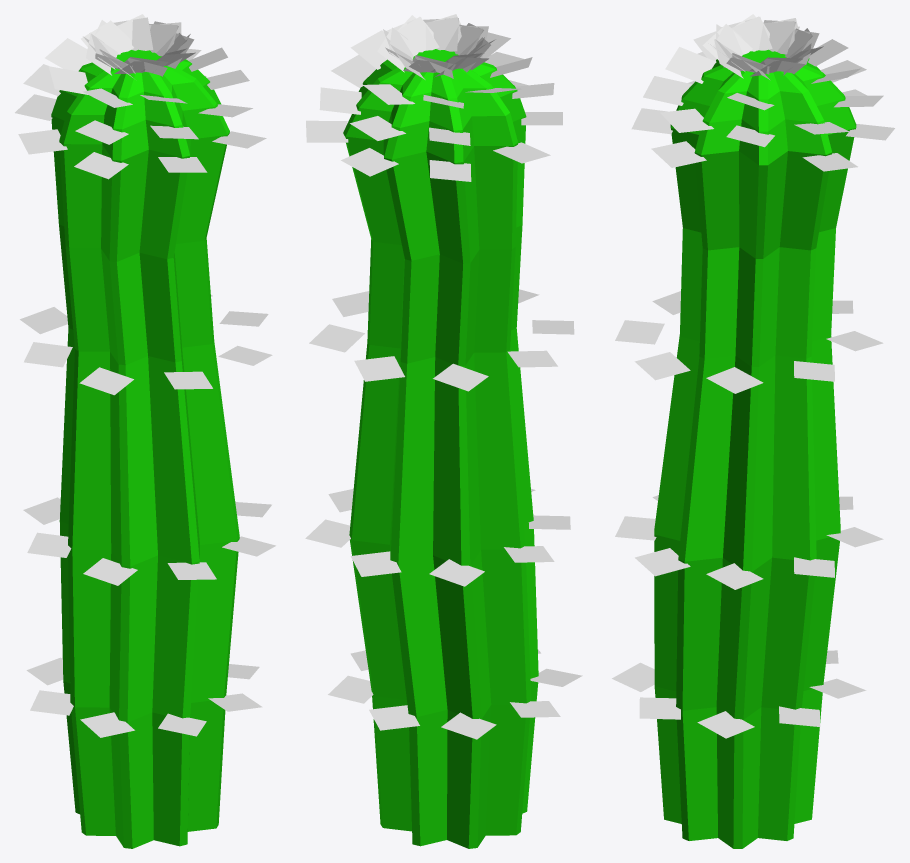
The model's file is Cactus_5.fbx.
3 renders of one model, left to right at view 1: azimuth 30°, elevation 25°; view 2: azimuth 150°, elevation 25°; view 3: azimuth 270°, elevation 25°, orthographic. The views are drawn at different scales.
Visible parts, largest first — view 1: Kaktus_1.002; view 2: Kaktus_1.002; view 3: Kaktus_1.002.
Part boxes in pixels (x1,y1,x2,y2): Kaktus_1.002: (15,14,275,848); Kaktus_1.002: (305,14,582,848); Kaktus_1.002: (612,14,894,848).
Bounding box in the file's own units: 61.49 × 192 × 62.98.
